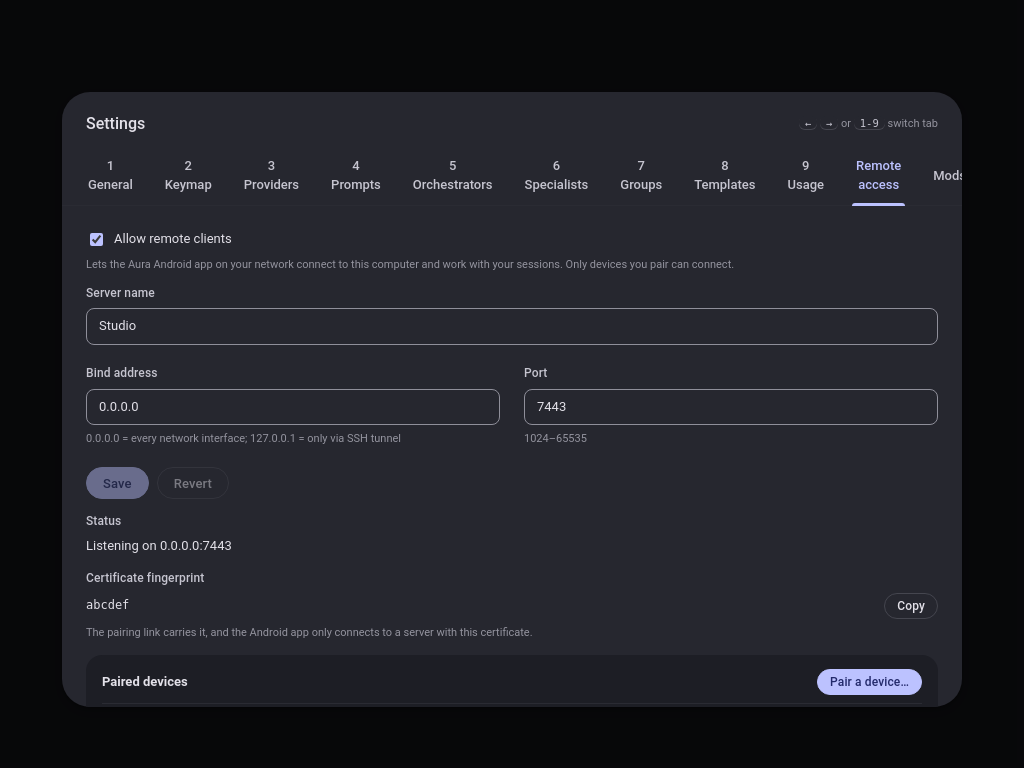
Test: turns remote access off straight away
What coordinates should you click on to do the following:
click the checkbox labelled "Allow remote clients"
I would click on:
 (96, 240)
Its box is 90,233 -> 103,246.
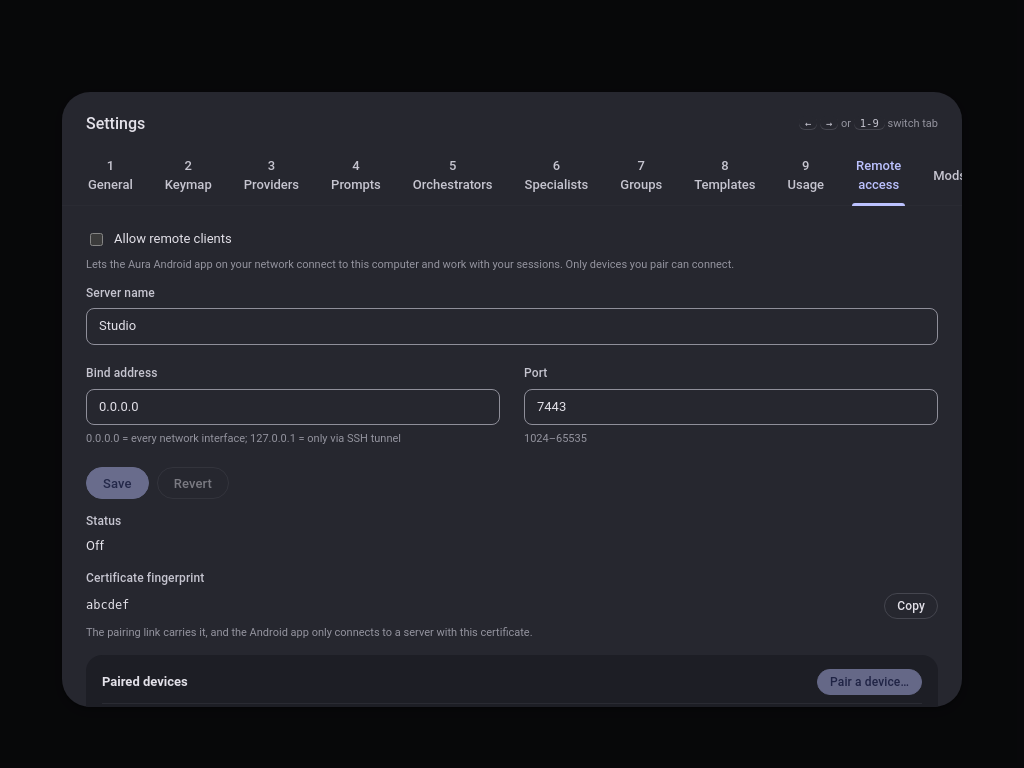
Expected: the text "Off" is shown, 86,538 -> 104,553
